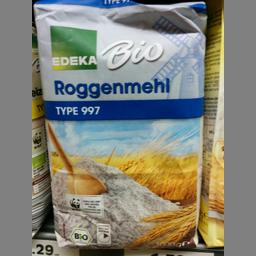flour: (33, 2, 206, 247)
